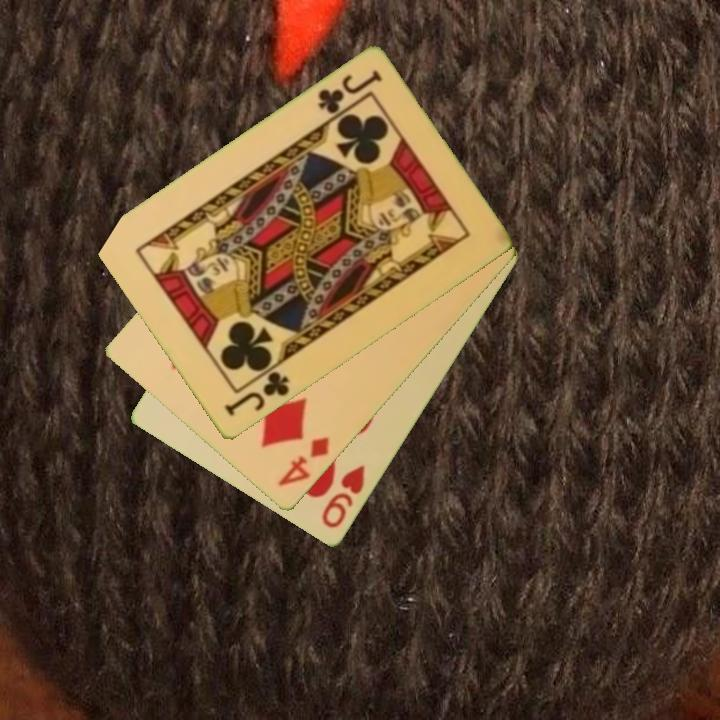4d: (274, 434, 333, 490)
9h: (318, 461, 369, 532)
Jc: (220, 368, 293, 420), (314, 66, 385, 118)
